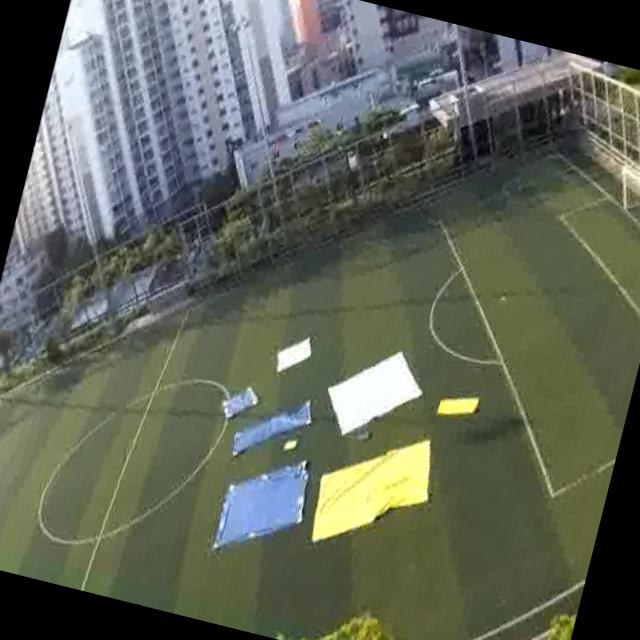danger: (212, 460, 310, 564), (262, 393, 318, 439), (217, 378, 259, 427)
safety: (328, 348, 418, 434), (270, 335, 312, 377)
warning: (311, 446, 431, 546), (432, 382, 482, 424)
